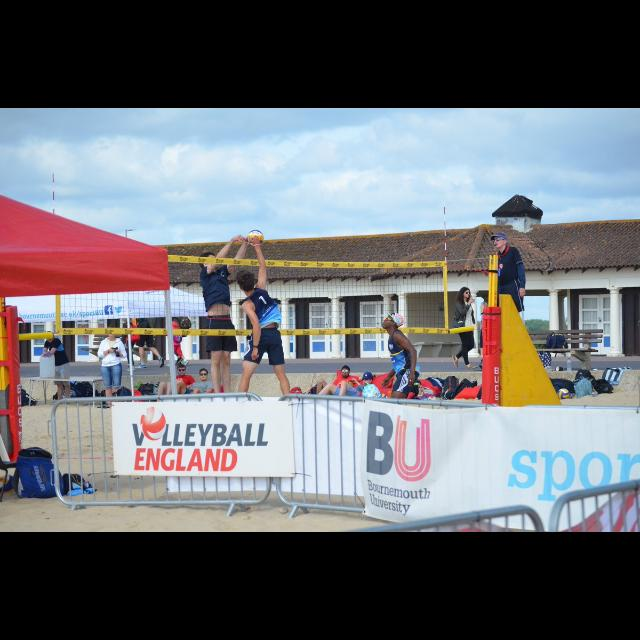head: (198, 252, 218, 274), (236, 270, 256, 292), (382, 312, 402, 330), (494, 234, 508, 248), (363, 373, 375, 385), (107, 325, 117, 339), (45, 331, 55, 344), (341, 366, 351, 378), (461, 287, 471, 299), (461, 288, 471, 298), (138, 303, 148, 311), (178, 366, 186, 376), (200, 370, 208, 380), (126, 316, 132, 324), (169, 316, 175, 322), (171, 316, 177, 322)
person: (233, 235, 294, 420), (197, 234, 255, 412), (380, 311, 422, 443), (489, 232, 528, 348), (95, 322, 128, 412), (314, 364, 378, 406), (310, 371, 374, 413), (42, 329, 72, 406), (452, 286, 478, 372), (134, 302, 166, 370), (152, 363, 198, 409), (172, 368, 218, 412), (167, 302, 193, 368), (479, 302, 499, 371), (164, 316, 190, 368), (120, 312, 142, 372)
